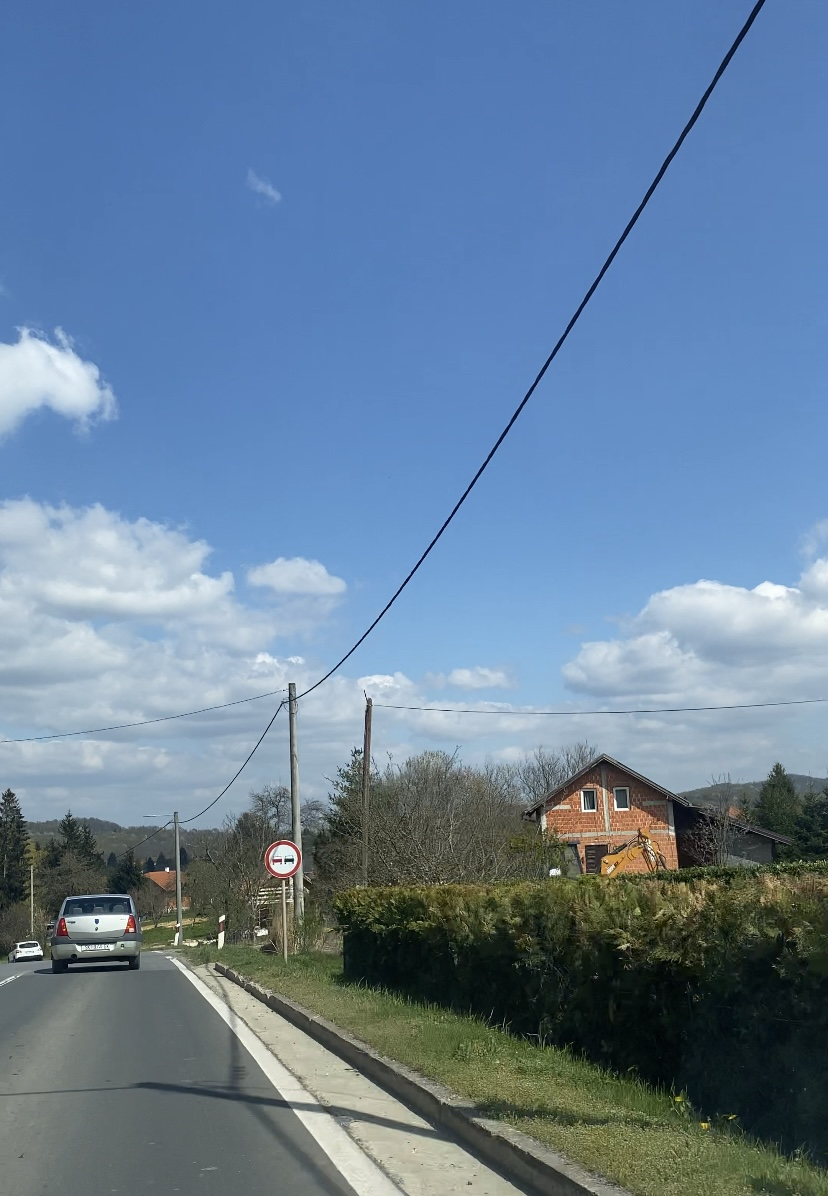Zabrana pretjecanja: (264, 840, 302, 878)
